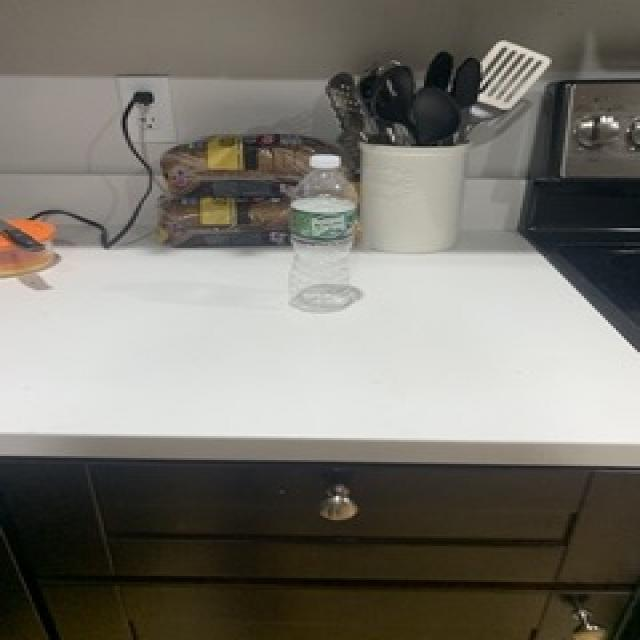water_bottle: (286, 154, 360, 312)
